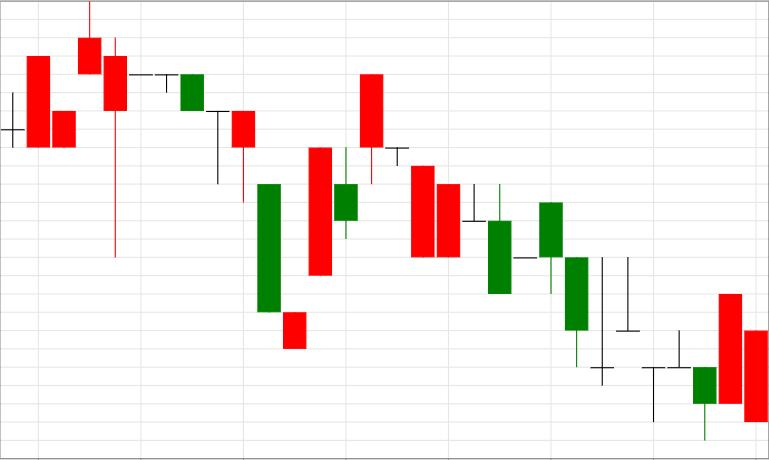hammer_rise: (78, 2, 255, 257), (616, 256, 716, 441)
